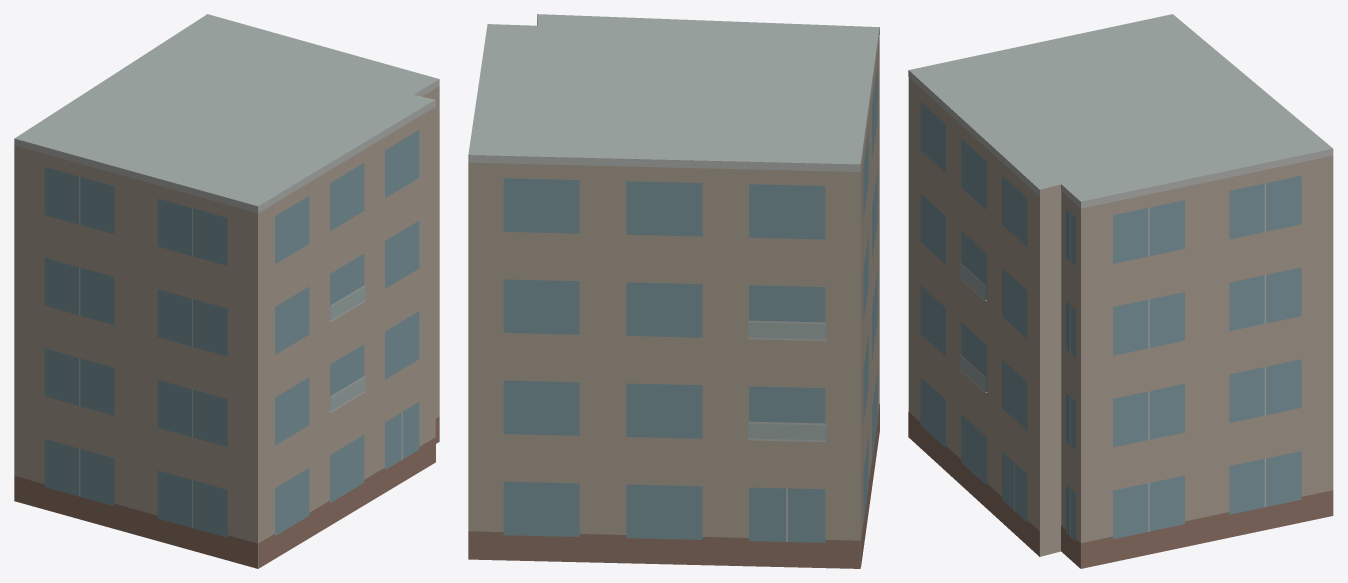
Rendered from survey-upis-32682190.glb.
3 renders of one model, left to right at view 1: azimuth 30°, elevation 25°; view 2: azimuth 150°, elevation 25°; view 3: azimuth 270°, elevation 25°, orthographic. The views are drawn at different scales.
Parts seen in each view (by area): view 1: survey-upis-32682190.tmp; view 2: survey-upis-32682190.tmp; view 3: survey-upis-32682190.tmp.
Part boxes in pixels (left/top/right/bottom): survey-upis-32682190.tmp: left=14, top=14, right=439, bottom=568; survey-upis-32682190.tmp: left=468, top=14, right=879, bottom=568; survey-upis-32682190.tmp: left=908, top=14, right=1333, bottom=568.
Size of the model in its own units: 14.16 by 12.9 by 13.54.
